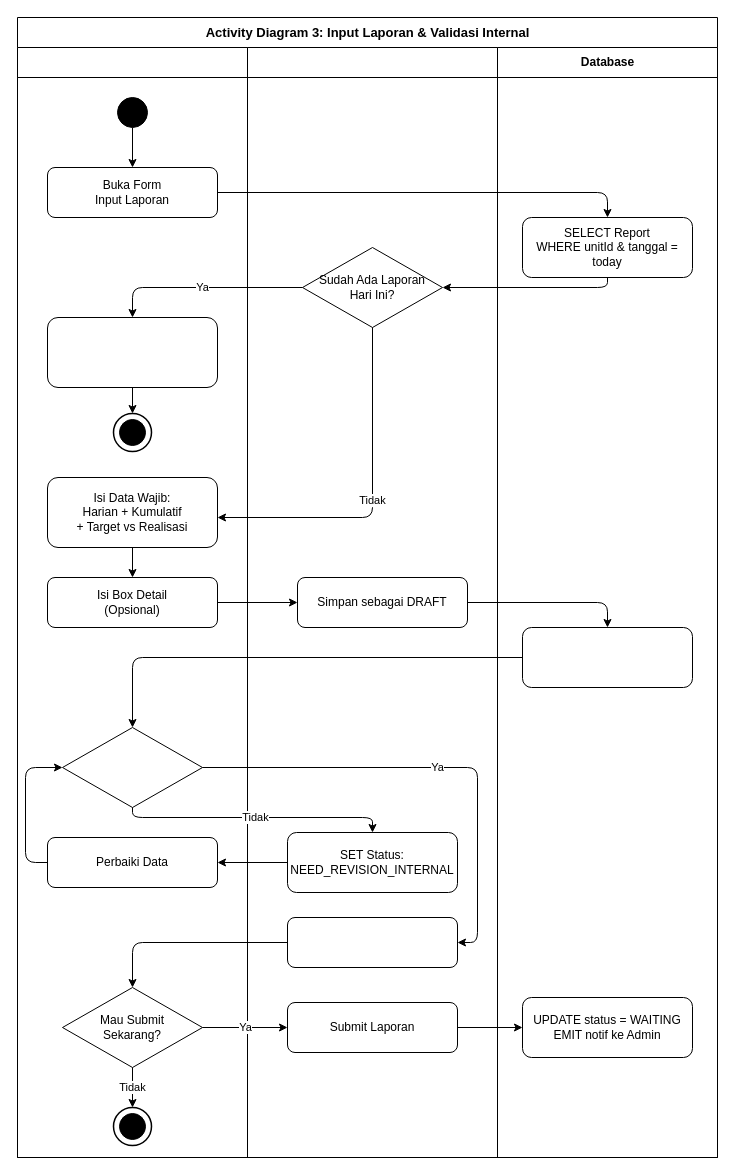
Some shapes in this 735 by 1175 pixel diagram are drawn without their labels. Each missing label, with the box of its shape:
Data Sudah Lengkap & Benar?: (62, 726, 202, 808)
INSERT Report (DRAFT) INSERT Detail Unit: (522, 626, 692, 688)
SET Status: READY_TO_SUBMIT: (286, 916, 458, 968)
Sistem: (246, 46, 498, 1158)
Tampil Pesan: Laporan Hari Ini Sudah Ada: (46, 316, 218, 388)
User Unit: (16, 46, 248, 1158)
